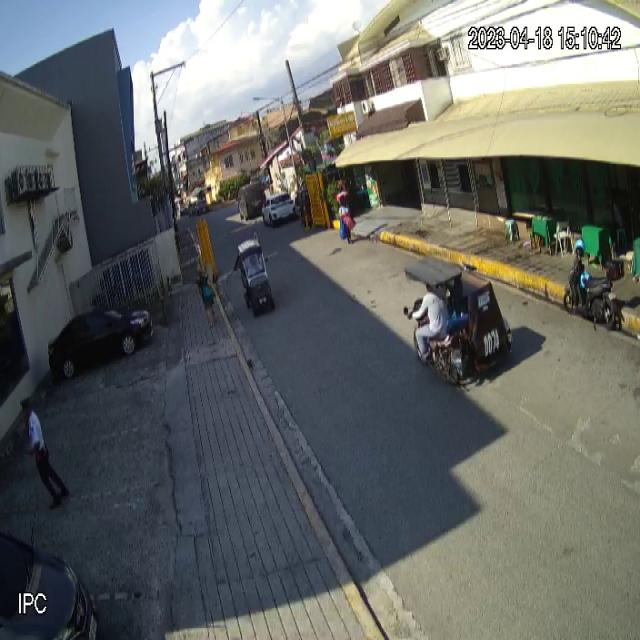Car: (47, 302, 155, 385)
Motorcycle: (562, 249, 626, 338)
Tricycle: (402, 255, 513, 389)
